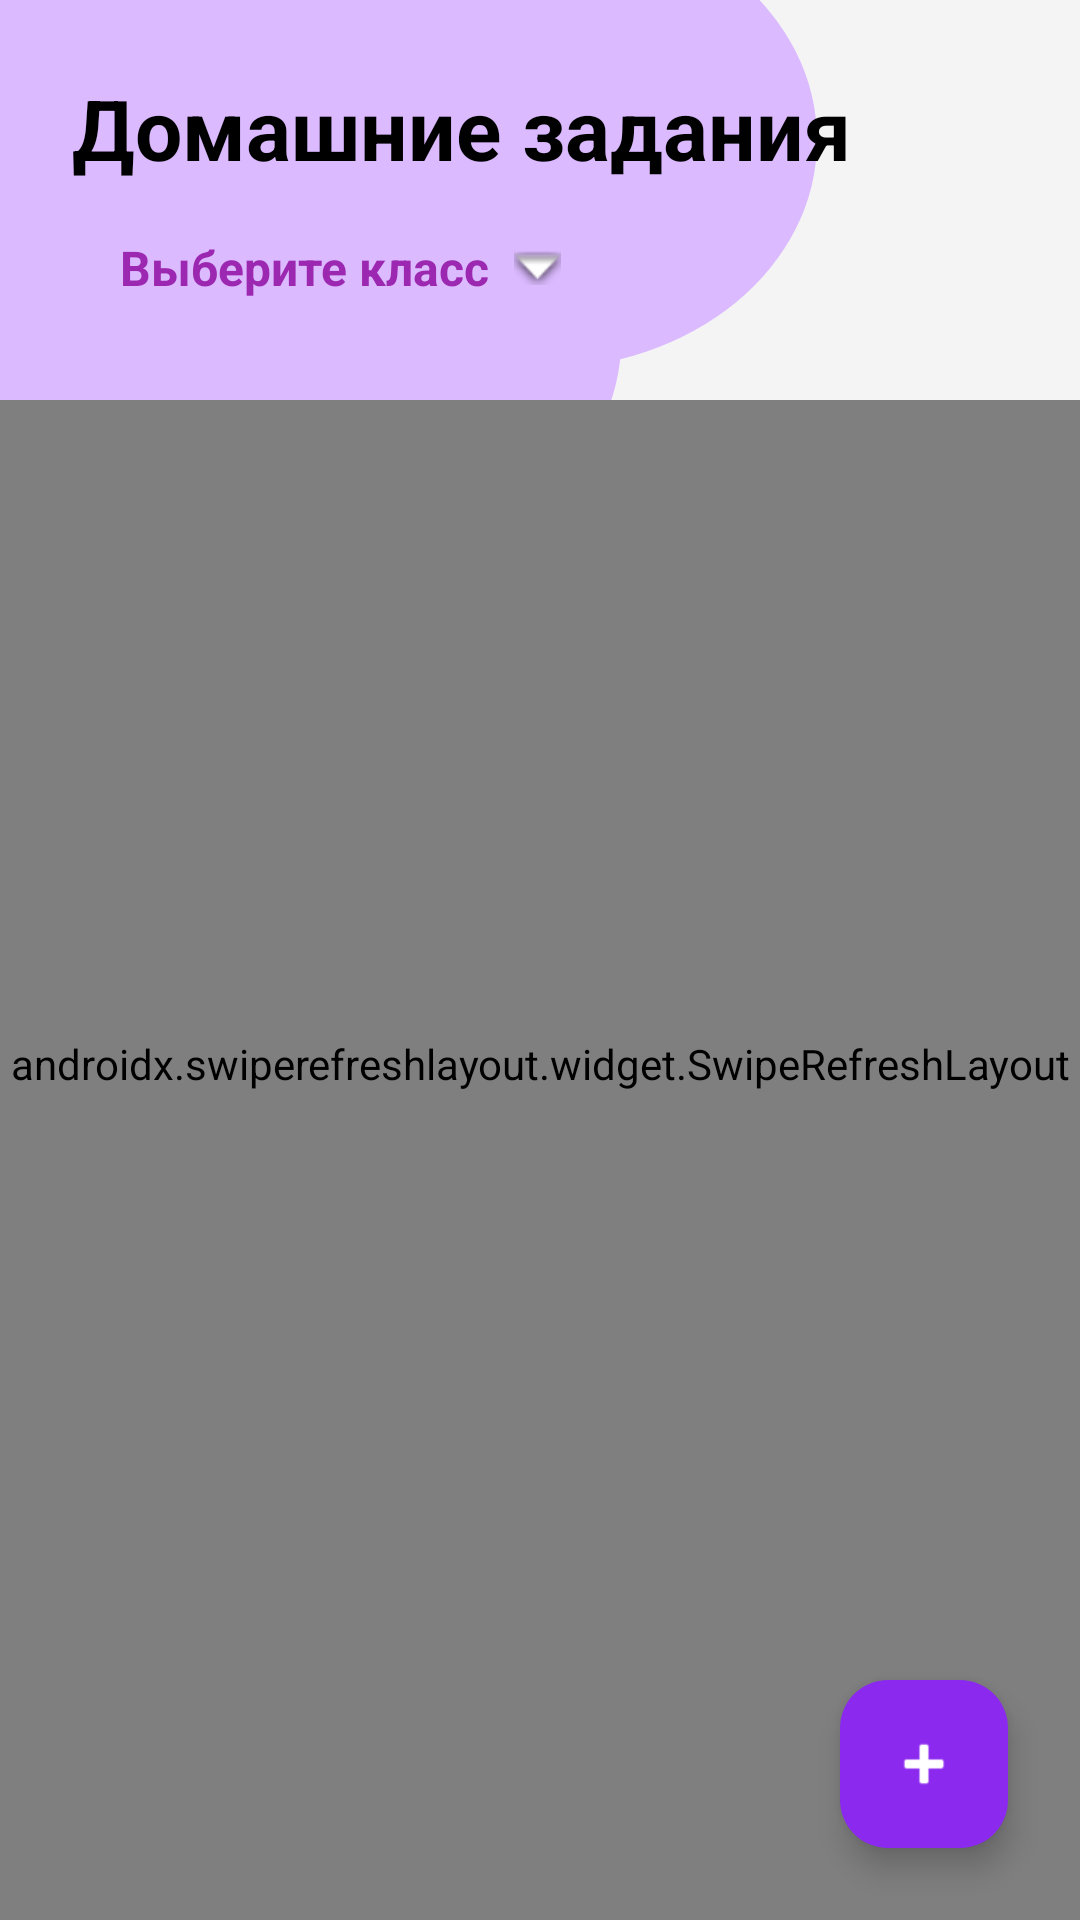

Named icons in this screenshot (1080×1920) and their centers, point (x, y):
Создать задание: point (924, 1764)
